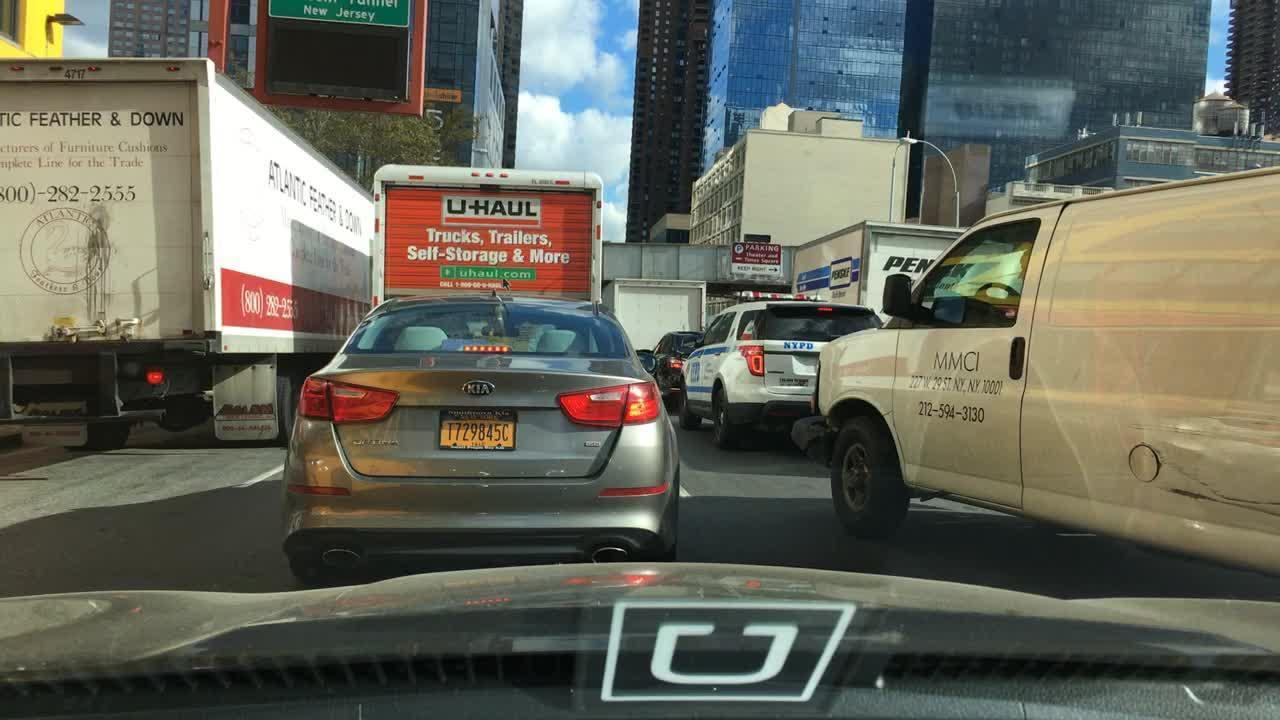kia: (453, 373, 506, 404)
